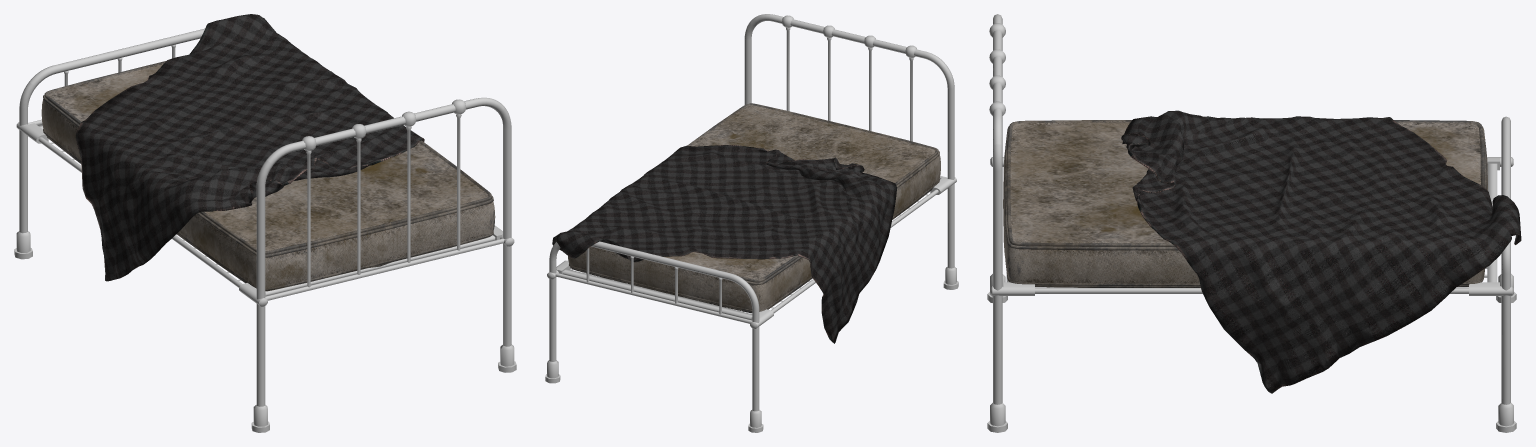
File: bed.obj
3 renders of one model, left to right at view 1: azimuth 30°, elevation 25°; view 2: azimuth 150°, elevation 25°; view 3: azimuth 270°, elevation 25°, orthographic. The views are drawn at different scales.
Visible parts, largest first — view 1: blanket, mattress, bed; view 2: blanket, mattress, bed; view 3: blanket, mattress, bed.
Part boxes in pixels (bbox=[...]): blanket: bbox=[75, 14, 424, 281]; mattress: bbox=[41, 61, 495, 291]; bed: bbox=[14, 28, 516, 432]; blanket: bbox=[552, 145, 897, 343]; mattress: bbox=[568, 103, 940, 313]; bed: bbox=[545, 14, 958, 432]; blanket: bbox=[1121, 110, 1521, 393]; mattress: bbox=[1003, 120, 1487, 287]; bed: bbox=[987, 14, 1516, 432].
Bounding box in the file's own units: 1.33 × 1.3 × 2.1.
